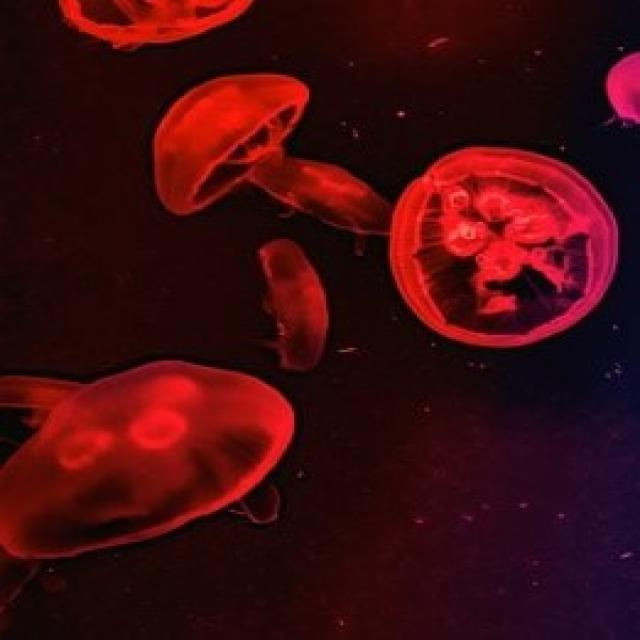Jellyfish: (382, 137, 626, 359), (136, 69, 392, 237), (253, 246, 344, 370)
